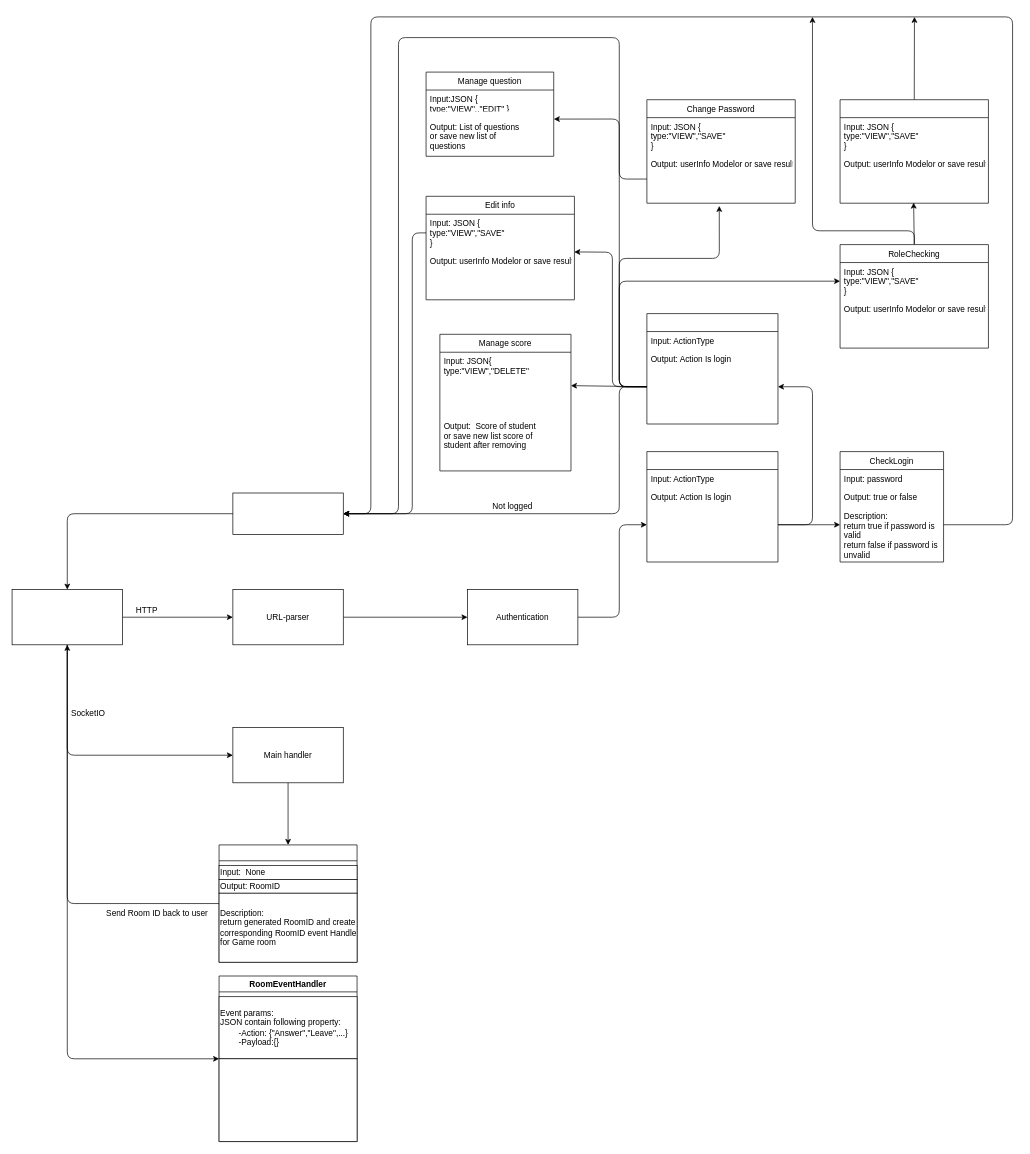
Some shapes in this 1030 by 1154 pixel diagram are drawn without their labels. The box of each missing label's shape, as (x1, y1, x2, y2) in pixels:
BroadCast event: -Round end -Game end -Game leader board -Question: (218, 1058, 357, 1142)
CheckAction: (646, 451, 778, 562)
CheckLogged: (646, 313, 778, 424)
CreateRoomEvent: (218, 844, 357, 962)
Front-end: (11, 589, 122, 645)
ManageAccount: (839, 99, 988, 203)
Respone: (232, 492, 343, 534)
